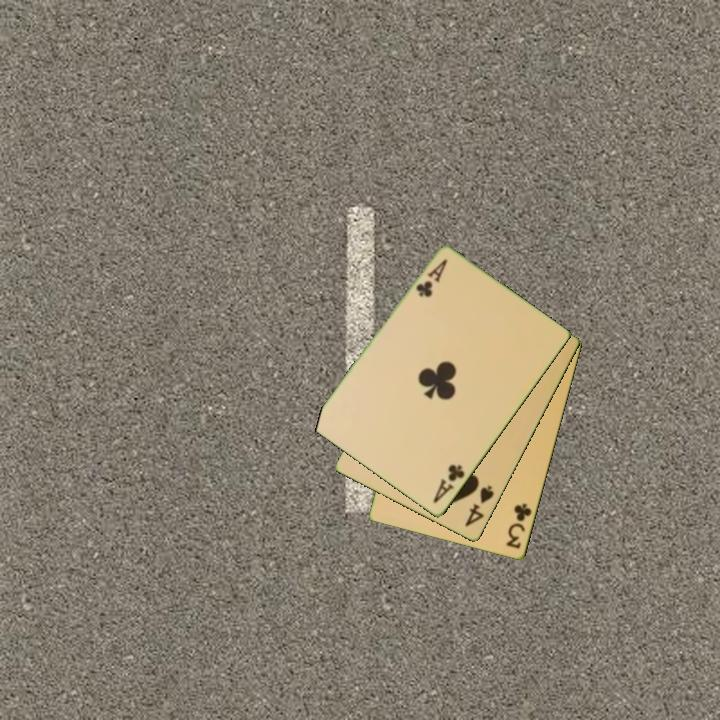3c: (503, 500, 535, 552)
4s: (461, 482, 497, 530)
Ac: (429, 461, 468, 507), (412, 256, 451, 301)
